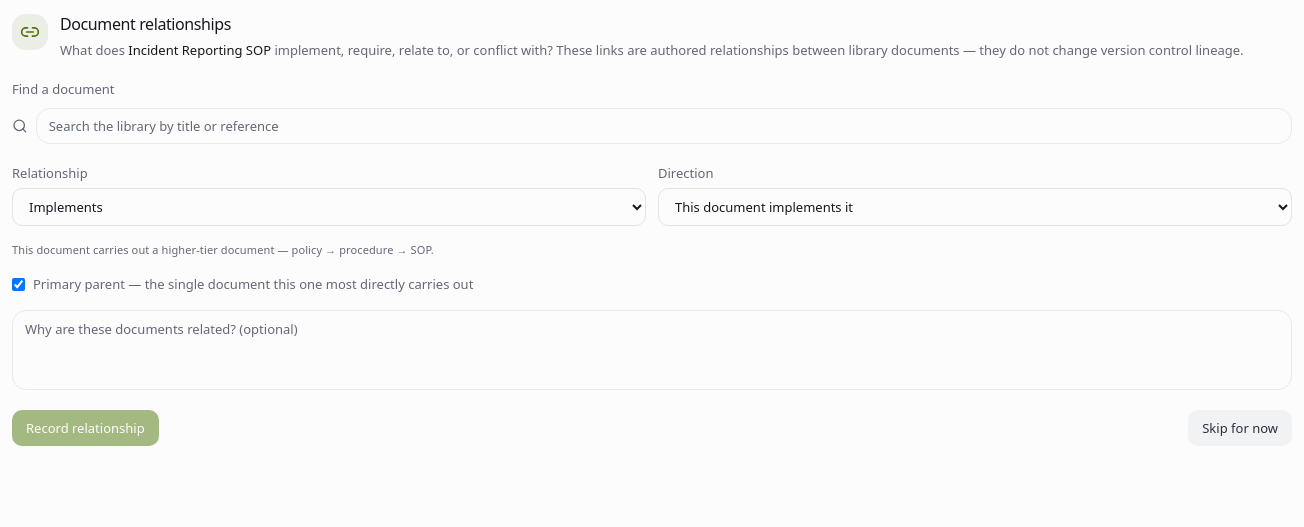
Test: DocumentCreateRelationshipsStep › disables Skip/Done and reports busy while createEdge is in flight
Step 1. Type "Incident" into the field with test id "documents-create-rel-search" → (664, 126), box 36,108 -> 1292,144
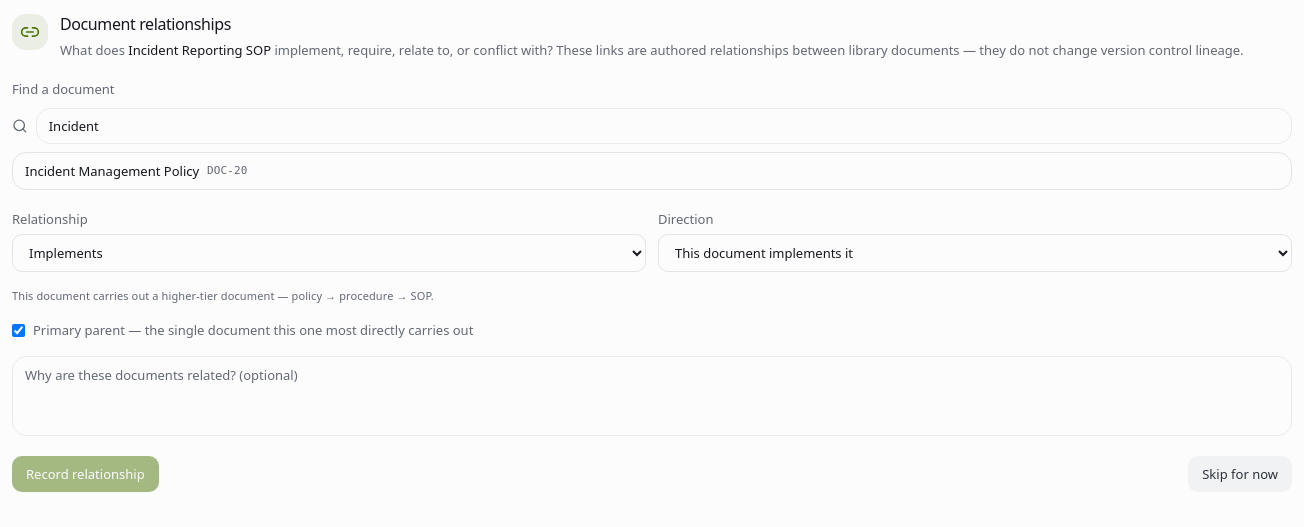
Expected: the button with test id "documents-create-rel-result-20" is shown
Step 2. Click the button with test id "documents-create-rel-result-20" → (112, 171), box 13,153 -> 1291,189
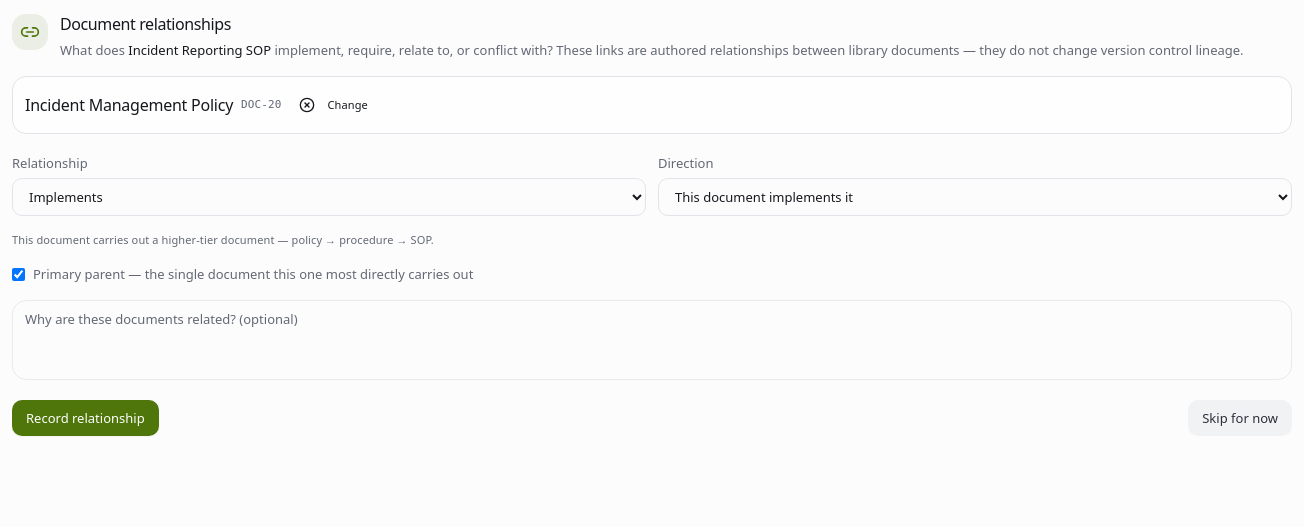
Step 3. Click the button with test id "documents-create-rel-submit" → (85, 418), box 12,400 -> 159,436
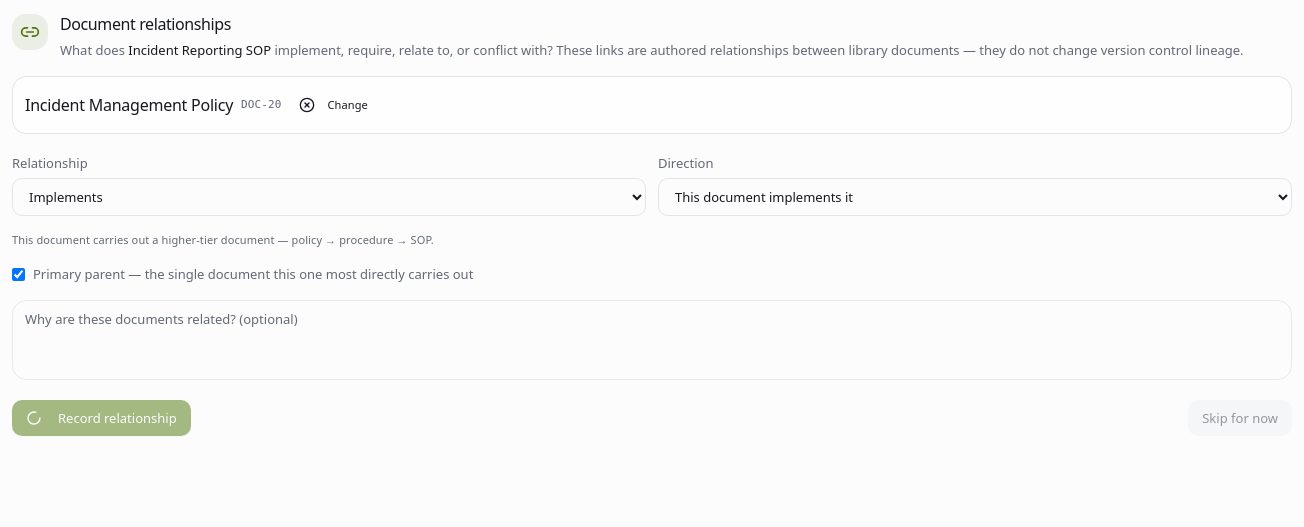
Expected: the button with test id "documents-create-rel-done" is disabled
Step 4. Click the button with test id "documents-create-rel-done" → (1240, 418), box 1188,400 -> 1292,436
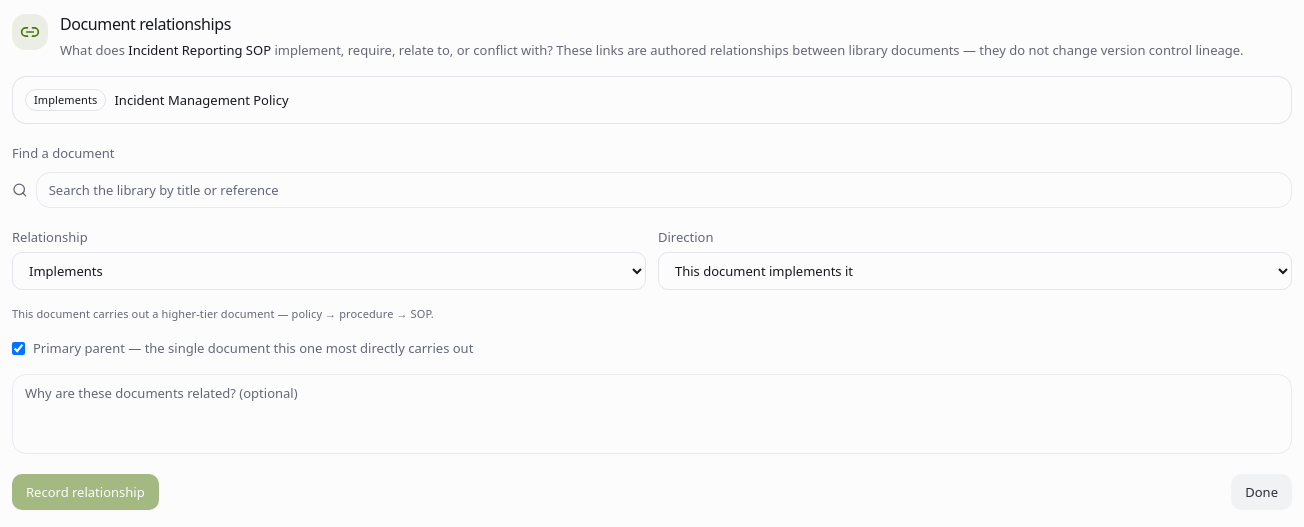
Expected: the button with test id "documents-create-rel-done" is enabled, 1231,474 -> 1292,510
